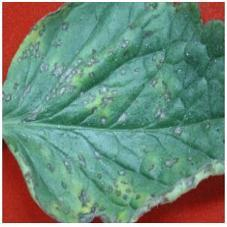Bacterial Spot: (2, 1, 225, 223)
